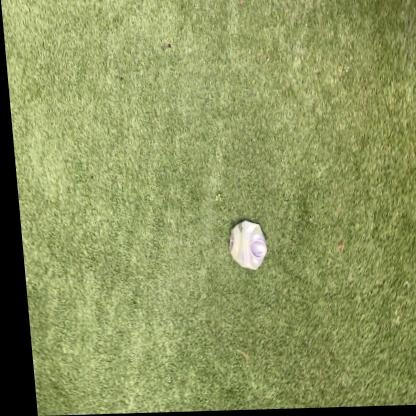trash: (230, 220, 266, 269)
